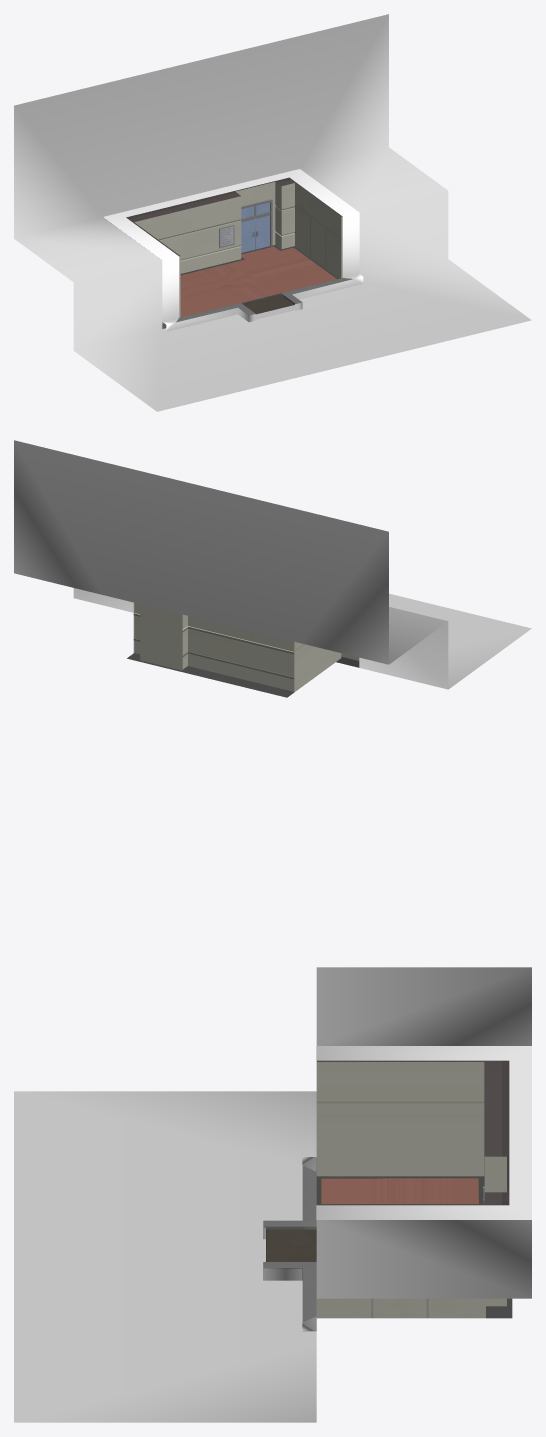
Rendered from a_com_building_b02.gltf.
The picture shows the model from 3 angles, top to bottom: view 1: azimuth 30°, elevation 25°; view 2: azimuth 150°, elevation 25°; view 3: azimuth 270°, elevation 25°; orthographic projection. The views are drawn at different scales.
Visible parts, largest first — view 1: a_com_building_b02_outsideblank01_mesh_shape:a_com_building_, um_a_com_building_b02_model_a_com_building_b02_modelShape:a_ (×8), nomerge_outside_edge_shape:mat_texture_edge02, a_com_building_b02_ceiling01_mesh_shape:a_com_building_b02_c; view 2: a_com_building_b02_outsideblank01_mesh_shape:a_com_building_, um_a_com_building_b02_model_a_com_building_b02_modelShape:a_ (×4); view 3: a_com_building_b02_outsideblank01_mesh_shape:a_com_building_, um_a_com_building_b02_model_a_com_building_b02_modelShape:a_ (×6), nomerge_outside_edge_shape:mat_texture_edge02, a_com_building_b02_ceiling01_mesh_shape:a_com_building_b02_c.
Boxes of the visible parts, box(x1,y1,x2,y2) form: a_com_building_b02_outsideblank01_mesh_shape:a_com_building_: box(14, 14, 531, 411); um_a_com_building_b02_model_a_com_building_b02_modelShape:a_ (×8): box(134, 182, 352, 328); nomerge_outside_edge_shape:mat_texture_edge02: box(103, 169, 363, 331); a_com_building_b02_ceiling01_mesh_shape:a_com_building_b02_c: box(126, 177, 342, 256); a_com_building_b02_outsideblank01_mesh_shape:a_com_building_: box(14, 440, 531, 689); um_a_com_building_b02_model_a_com_building_b02_modelShape:a_ (×4): box(127, 602, 359, 697); a_com_building_b02_outsideblank01_mesh_shape:a_com_building_: box(14, 967, 531, 1422); um_a_com_building_b02_model_a_com_building_b02_modelShape:a_ (×6): box(263, 1062, 512, 1331); nomerge_outside_edge_shape:mat_texture_edge02: box(263, 1046, 531, 1330); a_com_building_b02_ceiling01_mesh_shape:a_com_building_b02_c: box(316, 1060, 509, 1205).
Size of the model in its own units: 28 by 14.38 by 18.5.
Materials: 13 (11 with a texture image).
